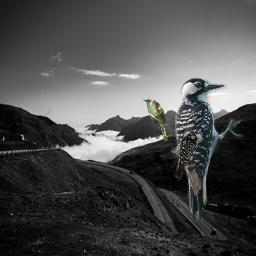Cuckoo: (141, 98, 168, 143)
Woodpecker: (172, 77, 244, 222), (171, 128, 203, 180)
